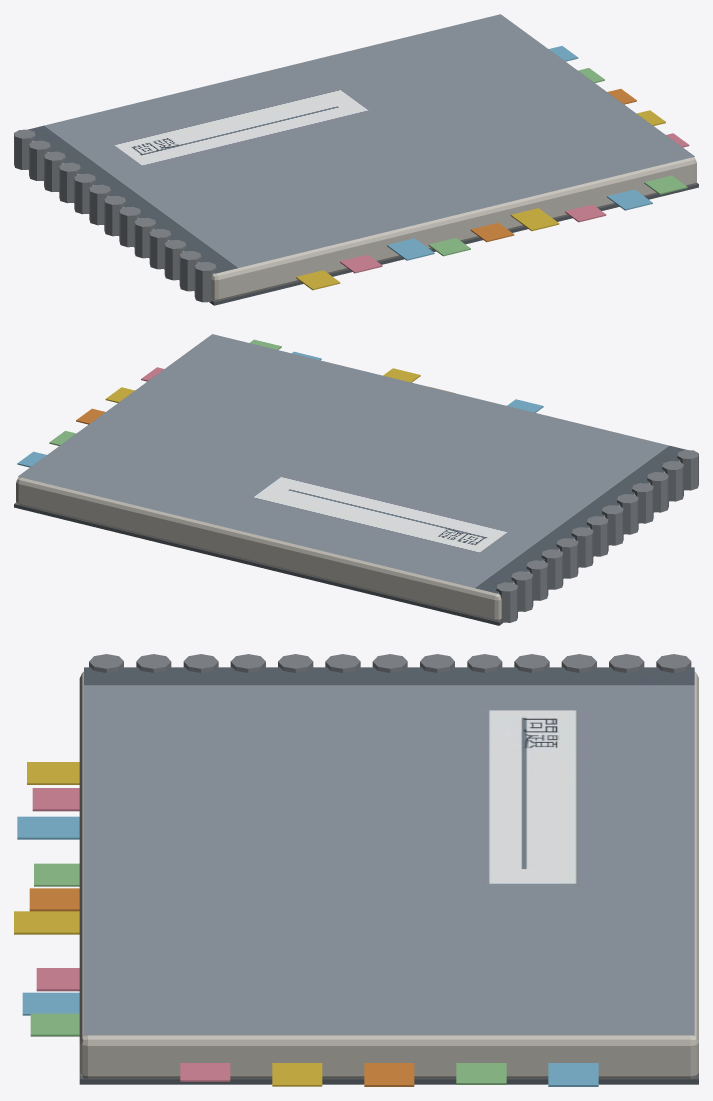
The model's file is notebook_q.glb.
3 views of the same model, one above another, from view 1: azimuth 30°, elevation 25°; view 2: azimuth 150°, elevation 25°; view 3: azimuth 270°, elevation 25° (orthographic). The views are drawn at different scales.
Visible parts, largest first — view 1: notebook_q_print, notebook_q_vc; view 2: notebook_q_print, notebook_q_vc; view 3: notebook_q_print, notebook_q_vc.
Part boxes in pixels (x1=…): notebook_q_print: x1=28, y1=14, x2=694, y2=273; notebook_q_vc: x1=14, y1=46, x2=698, y2=305; notebook_q_print: x1=18, y1=334, x2=686, y2=593; notebook_q_vc: x1=14, y1=339, x2=698, y2=625; notebook_q_print: x1=84, y1=667, x2=694, y2=1035; notebook_q_vc: x1=14, y1=654, x2=698, y2=1086.
Bounding box in the file's own units: 0.2266 × 0.0137 × 0.1637.
Materials: 2 (1 with a texture image).
